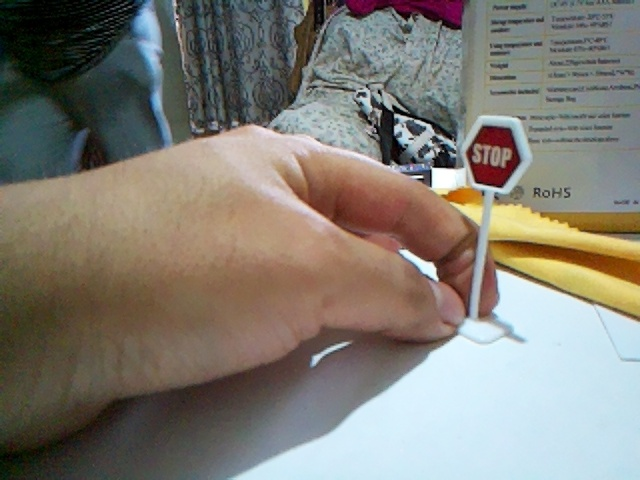stop_sign: (459, 115, 532, 193)
